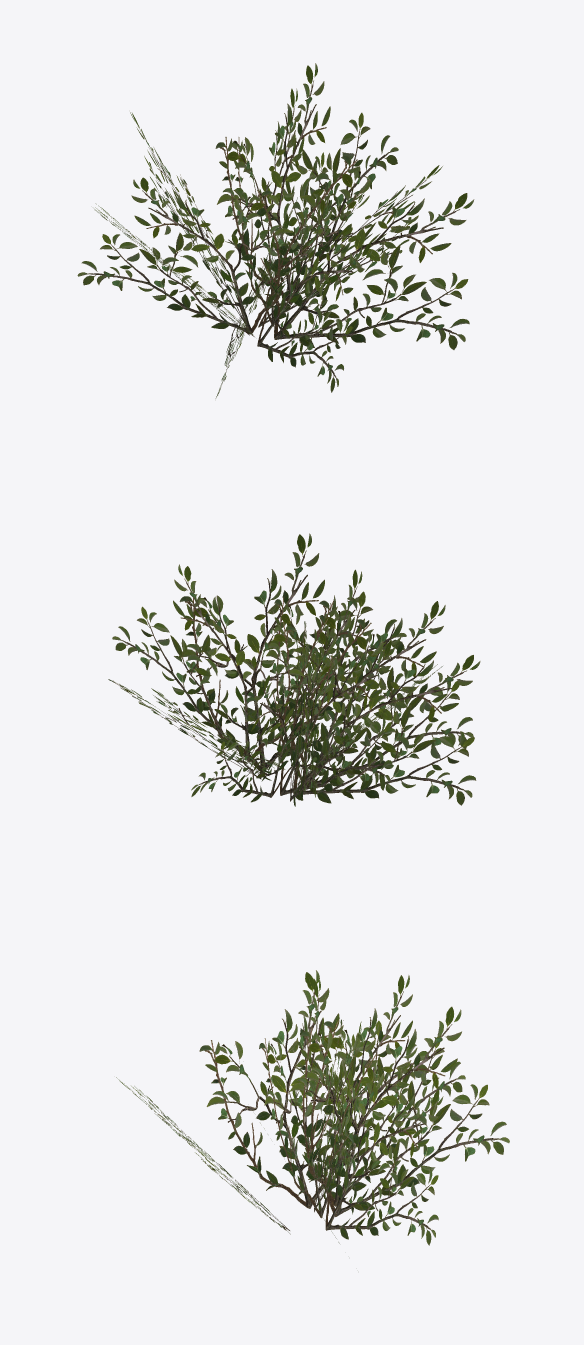
The model's file is bush.glb.
3 renders of one model, top to bottom at view 1: azimuth 30°, elevation 25°; view 2: azimuth 150°, elevation 25°; view 3: azimuth 270°, elevation 25°, orthographic. The views are drawn at different scales.
Parts seen in each view (by area): view 1: Mesh_0346.rip; view 2: Mesh_0346.rip; view 3: Mesh_0346.rip.
Boxes of the visible parts, x1,y1,x2,y2 form: Mesh_0346.rip: [77, 63, 474, 398]; Mesh_0346.rip: [108, 533, 480, 806]; Mesh_0346.rip: [116, 970, 509, 1245].
Size of the model in its own units: 4.82 by 3.3 by 4.63.
1 material, 1 textured.
